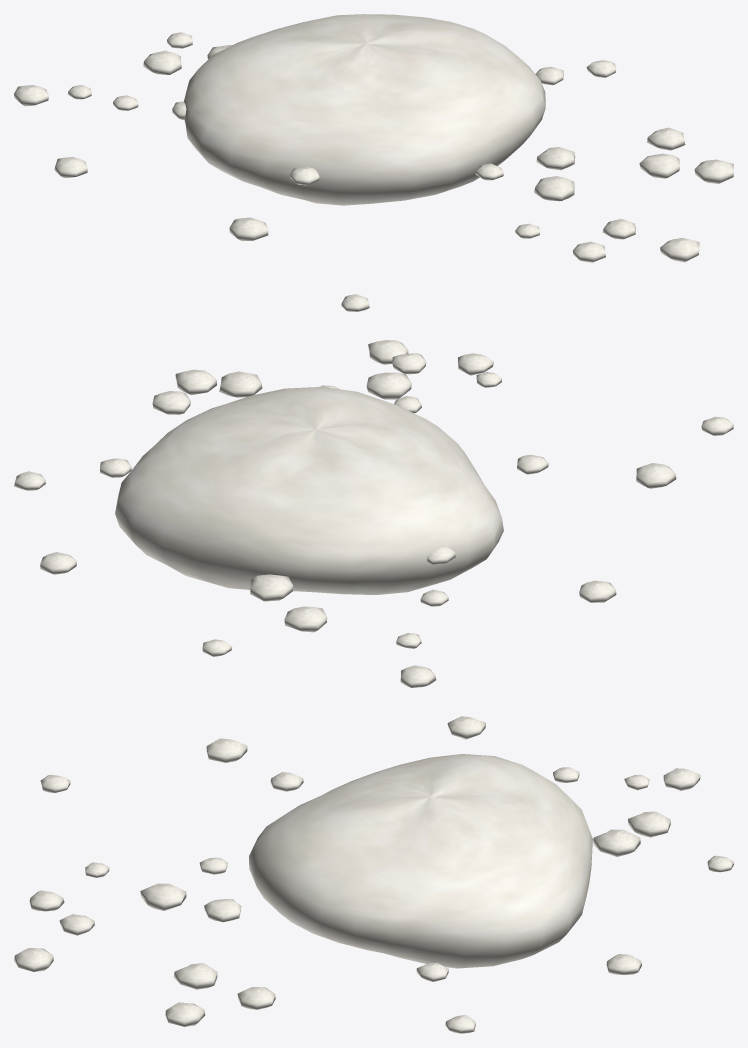
Rendered from leite_po.glb.
3 renders of one model, top to bottom at view 1: azimuth 30°, elevation 25°; view 2: azimuth 150°, elevation 25°; view 3: azimuth 270°, elevation 25°, orthographic. The views are drawn at different scales.
Parts seen in each view (by area): view 1: leite_po_0, leite_po_12, leite_po_15, leite_po_20, leite_po_10, leite_po_21, leite_po_17, leite_po_2, leite_po_5, leite_po_16, leite_po_1, leite_po_6 (+1 smaller); view 2: leite_po_0, leite_po_12, leite_po_13, leite_po_15, leite_po_21, leite_po_20, leite_po_10, leite_po_5, leite_po_17, leite_po_1, leite_po_16, leite_po_4 (+2 smaller); view 3: leite_po_0, leite_po_13, leite_po_12, leite_po_15, leite_po_21, leite_po_10, leite_po_20, leite_po_17, leite_po_2, leite_po_5, leite_po_1, leite_po_16 (+3 smaller).
Part boxes in pixels (bbox=[...]): leite_po_0: bbox=[184, 14, 545, 205]; leite_po_12: bbox=[534, 176, 574, 201]; leite_po_15: bbox=[639, 153, 680, 178]; leite_po_20: bbox=[694, 159, 733, 183]; leite_po_10: bbox=[229, 217, 268, 240]; leite_po_21: bbox=[143, 50, 181, 74]; leite_po_17: bbox=[660, 238, 699, 262]; leite_po_2: bbox=[536, 147, 575, 170]; leite_po_5: bbox=[647, 127, 685, 150]; leite_po_16: bbox=[14, 85, 48, 106]; leite_po_1: bbox=[54, 156, 87, 177]; leite_po_6: bbox=[573, 241, 605, 262]; leite_po_0: bbox=[115, 386, 503, 594]; leite_po_12: bbox=[366, 372, 411, 399]; leite_po_13: bbox=[250, 574, 293, 601]; leite_po_15: bbox=[219, 371, 262, 397]; leite_po_21: bbox=[284, 606, 327, 632]; leite_po_20: bbox=[175, 369, 216, 395]; leite_po_10: bbox=[636, 463, 676, 488]; leite_po_5: bbox=[152, 391, 190, 414]; leite_po_17: bbox=[368, 340, 408, 364]; leite_po_1: bbox=[579, 580, 616, 602]; leite_po_16: bbox=[400, 665, 436, 687]; leite_po_4: bbox=[40, 552, 76, 574]; leite_po_0: bbox=[249, 754, 592, 968]; leite_po_13: bbox=[593, 829, 640, 856]; leite_po_12: bbox=[140, 883, 186, 910]; leite_po_15: bbox=[173, 963, 217, 989]; leite_po_21: bbox=[628, 811, 670, 837]; leite_po_10: bbox=[206, 738, 247, 762]; leite_po_20: bbox=[165, 1002, 205, 1026]; leite_po_17: bbox=[14, 948, 53, 971]; leite_po_2: bbox=[204, 898, 241, 922]; leite_po_5: bbox=[237, 987, 275, 1009]; leite_po_1: bbox=[447, 716, 485, 739]; leite_po_16: bbox=[663, 768, 700, 790].
Size of the model in its own units: 0.7366 by 0.1633 by 0.7963.
1 material, 1 textured.
